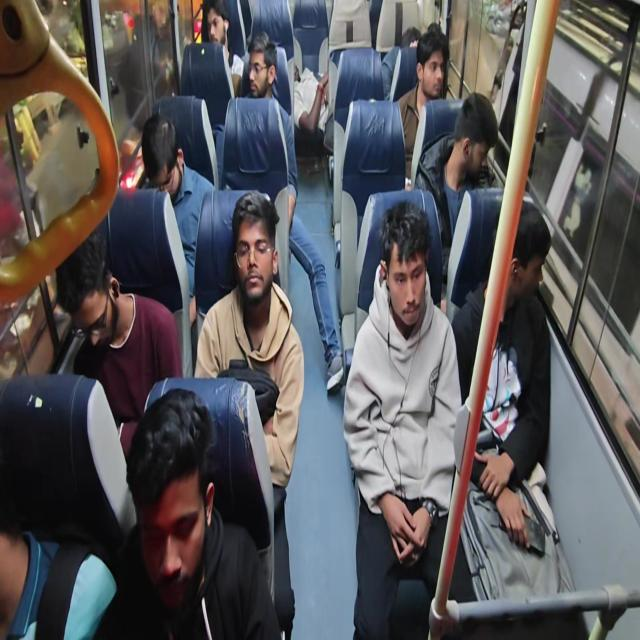person: (0, 406, 109, 640), (372, 207, 477, 416), (120, 374, 211, 584), (146, 104, 251, 279), (51, 233, 132, 438), (486, 214, 547, 402), (446, 89, 494, 212), (418, 23, 462, 126), (299, 23, 340, 128), (226, 190, 265, 297), (202, 0, 252, 78), (246, 40, 279, 136), (398, 33, 430, 76)
